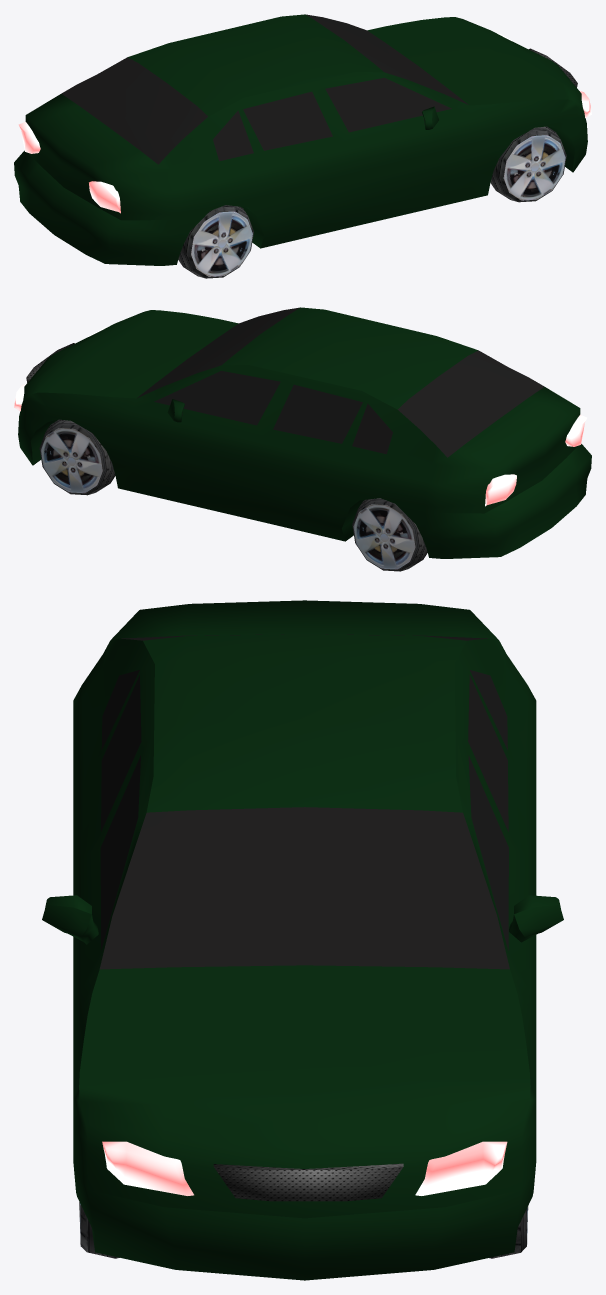
The picture shows the model from 3 angles, top to bottom: view 1: azimuth 30°, elevation 25°; view 2: azimuth 150°, elevation 25°; view 3: azimuth 270°, elevation 25°; orthographic projection. The views are drawn at different scales.
Parts seen in each view (by area): view 1: Circle, pneu_dianteiro, pneu_traseiro, Plane.002; view 2: Circle, pneu_dianteiro, pneu_traseiro, Plane.002; view 3: Circle, Plane.002, Plane.001, espelho_mustang, pneu_dianteiro.
Boxes of the visible parts, x1=… form: Circle: x1=14, y1=14, x2=587, y2=265; pneu_dianteiro: x1=490, y1=126, x2=566, y2=202; pneu_traseiro: x1=178, y1=205, x2=253, y2=278; Plane.002: x1=18, y1=34, x2=591, y2=213; Circle: x1=18, y1=307, x2=591, y2=558; pneu_dianteiro: x1=39, y1=419, x2=115, y2=495; pneu_traseiro: x1=352, y1=498, x2=427, y2=571; Plane.002: x1=14, y1=327, x2=586, y2=506; Circle: x1=73, y1=600, x2=536, y2=1280; Plane.002: x1=102, y1=1141, x2=507, y2=1195; Plane.001: x1=213, y1=1163, x2=403, y2=1201; espelho_mustang: x1=42, y1=895, x2=563, y2=944; pneu_dianteiro: x1=79, y1=1202, x2=528, y2=1258.
Size of the model in its own units: 7.41 by 2.29 by 3.28.
6 materials, 3 textured.
